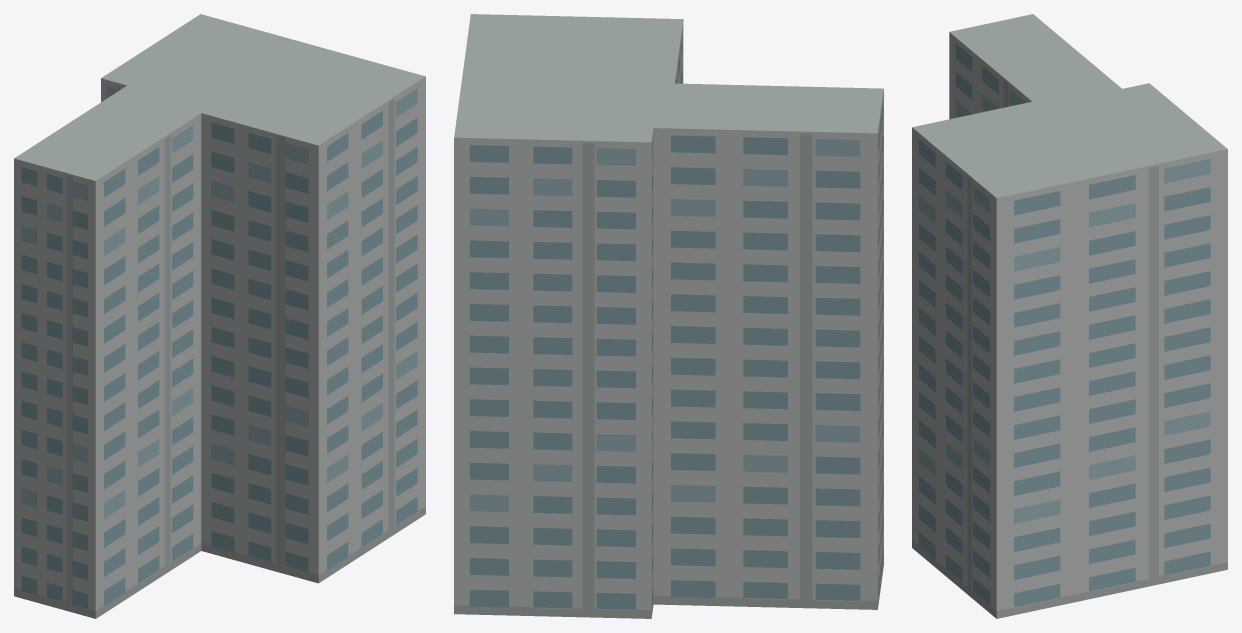
File: residential-59de449b-4546-4dd4-b9e6-6a4d4ee2034e.glb
3 renders of one model, left to right at view 1: azimuth 30°, elevation 25°; view 2: azimuth 150°, elevation 25°; view 3: azimuth 270°, elevation 25°, orthographic. The views are drawn at different scales.
Parts seen in each view (by area): view 1: residential-59de449b-4546-4dd4-b9e6-6a4d4ee2034e.tmp; view 2: residential-59de449b-4546-4dd4-b9e6-6a4d4ee2034e.tmp; view 3: residential-59de449b-4546-4dd4-b9e6-6a4d4ee2034e.tmp.
Part boxes in pixels (x1=…): residential-59de449b-4546-4dd4-b9e6-6a4d4ee2034e.tmp: x1=14, y1=14, x2=425, y2=618; residential-59de449b-4546-4dd4-b9e6-6a4d4ee2034e.tmp: x1=454, y1=14, x2=883, y2=618; residential-59de449b-4546-4dd4-b9e6-6a4d4ee2034e.tmp: x1=912, y1=14, x2=1227, y2=618.
Size of the model in its own units: 47.9 by 51 by 34.7.
